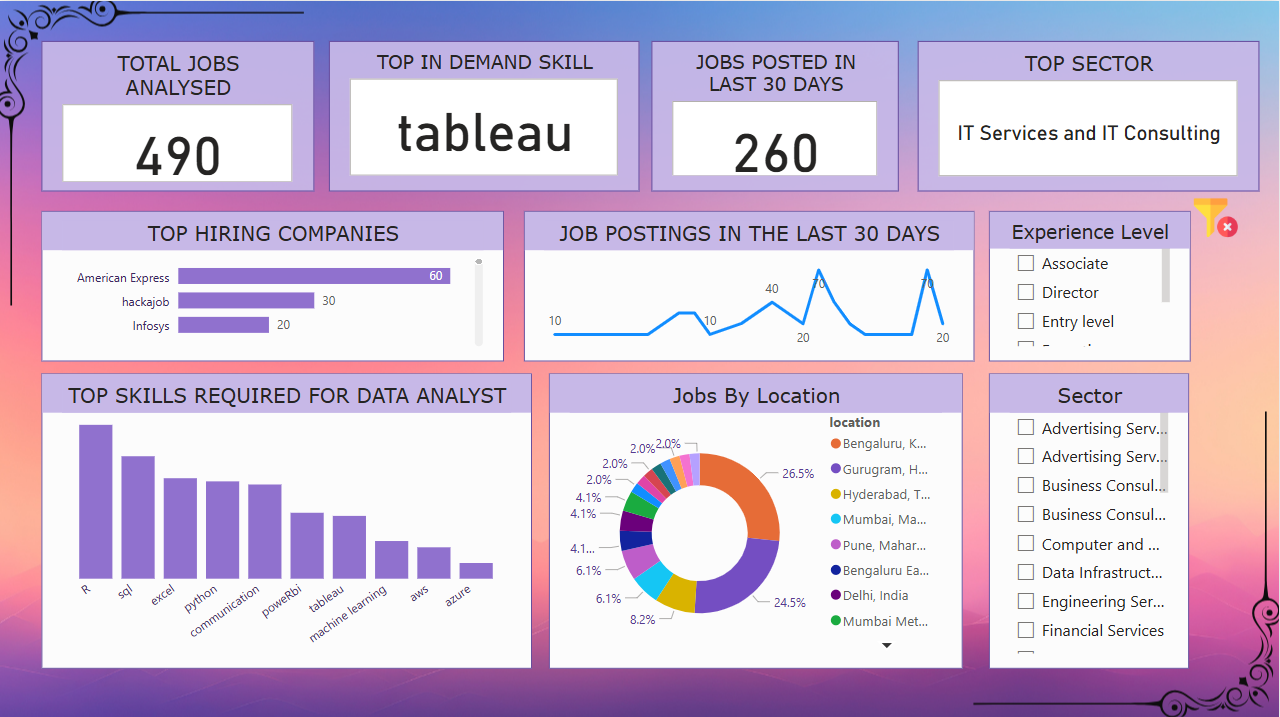

The page's visual inventory and layout, read from the dashboard file:
{"tool":"powerbi","page":{"name":"Page 1","canvas":[1280,720],"ordinal":0},"visuals":[{"type":"cardVisual","title":"TOTAL JOBS ANALYSED","fields":{"Data":["CountNonNull(job_market_combined_powerbi.companyName)"]},"box":[42.5,40,272.5,150],"z":0},{"type":"cardVisual","title":"TOP IN DEMAND SKILL","fields":{"Data":["job_market_combined_powerbi.Most Demanded Skill"]},"box":[330,40,310,150],"z":1000},{"type":"cardVisual","title":"JOBS POSTED IN LAST 30 DAYS","fields":{"Data":["job_market_combined_powerbi.Jobs Last 30 Days"]},"box":[652.5,40,247.5,150],"z":2000},{"type":"barChart","title":"TOP HIRING COMPANIES","fields":{"Category":["job_market_combined_powerbi.companyName"],"Y":["CountNonNull(job_market_combined_powerbi.companyName)"]},"box":[42.5,210,462.5,150],"z":3000},{"type":"columnChart","title":"TOP SKILLS REQUIRED FOR DATA ANALYST","fields":{"Category":["job_market_combined_powerbi.Skill"],"Y":["Sum(job_market_combined_powerbi.Value)"]},"box":[42.5,372.5,490,295],"z":4000},{"type":"donutChart","title":"Jobs By Location","fields":{"Category":["job_market_combined_powerbi.location"],"Y":["CountNonNull(job_market_combined_powerbi.title)"]},"box":[550,372.5,413.8,295],"z":5000},{"type":"cardVisual","title":"TOP SECTOR","fields":{"Data":["job_market_combined_powerbi.TopSector"]},"box":[918.8,40,361.2,150],"z":6000},{"type":"lineChart","title":"JOB POSTINGS IN THE LAST 30 DAYS","fields":{"Category":["job_market_combined_powerbi.postedDate.Variation.Date Hierarchy.Day"],"Y":["CountNonNull(job_market_combined_powerbi.title)"]},"box":[525,210,450,150],"z":7000},{"type":"slicer","title":"Experience Level","fields":{"Values":["job_market_combined_powerbi.experienceLevel"]},"box":[990,210,201.2,150],"z":8000},{"type":"slicer","title":"Sector","fields":{"Values":["job_market_combined_powerbi.sector"]},"box":[990,372.5,200,295],"z":9000},{"type":"image","box":[1190,190,53.8,53.8],"z":10000}]}

Visuals, with their boxes in screenshot pixels (x1, y1, x2, y2), scaled from the page's 1280x720 canvas onto the 1280x717 screenshot:
"TOTAL JOBS ANALYSED" cardVisual: x1=42 y1=40 x2=315 y2=189
"TOP IN DEMAND SKILL" cardVisual: x1=330 y1=40 x2=640 y2=189
"JOBS POSTED IN LAST 30 DAYS" cardVisual: x1=652 y1=40 x2=900 y2=189
"TOP HIRING COMPANIES" barChart: x1=42 y1=209 x2=505 y2=358
"TOP SKILLS REQUIRED FOR DATA ANALYST" columnChart: x1=42 y1=371 x2=532 y2=665
"Jobs By Location" donutChart: x1=550 y1=371 x2=964 y2=665
"TOP SECTOR" cardVisual: x1=919 y1=40 x2=1279 y2=189
"JOB POSTINGS IN THE LAST 30 DAYS" lineChart: x1=525 y1=209 x2=975 y2=358
"Experience Level" slicer: x1=990 y1=209 x2=1191 y2=358
"Sector" slicer: x1=990 y1=371 x2=1190 y2=665
image: x1=1190 y1=189 x2=1244 y2=243
